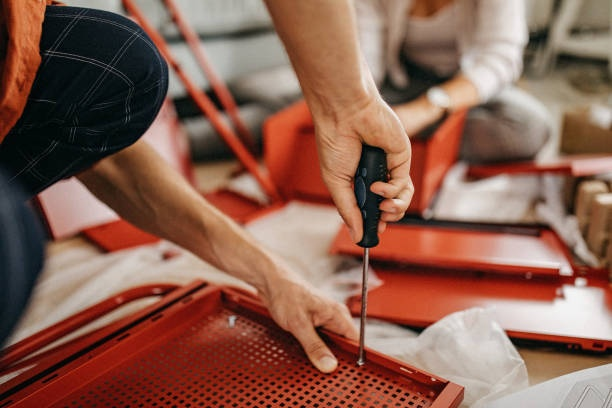screwdriver: (351, 144, 391, 370)
